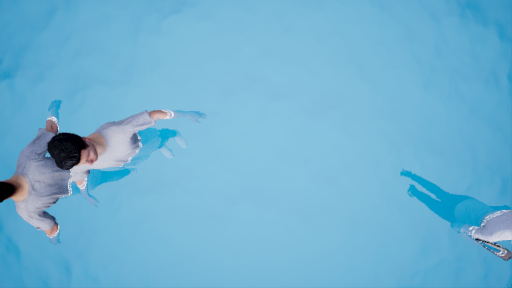person: (1, 102, 189, 235), (403, 170, 512, 262)
